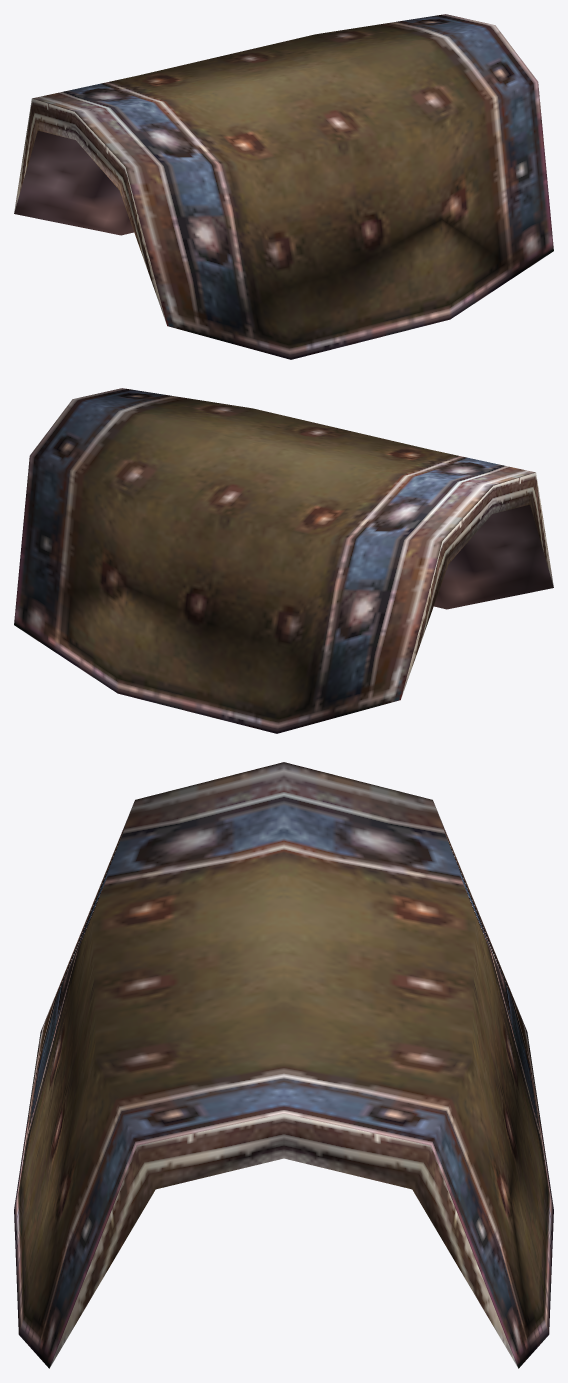
Rendered from light_01_sa.glb.
3 renders of one model, top to bottom at view 1: azimuth 30°, elevation 25°; view 2: azimuth 150°, elevation 25°; view 3: azimuth 270°, elevation 25°, orthographic. The views are drawn at different scales.
Parts seen in each view (by area): view 1: light_01_sa; view 2: light_01_sa; view 3: light_01_sa.
Part boxes in pixels (x1,y1,x2,y2): light_01_sa: [14, 14, 553, 359]; light_01_sa: [14, 388, 553, 733]; light_01_sa: [14, 762, 553, 1368].
Bounding box in the file's own units: 0.2421 × 0.1199 × 0.1694.
Materials: 1 (1 with a texture image).
